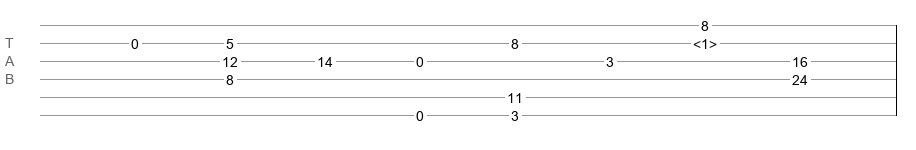0: (131, 36, 139, 46), (416, 54, 424, 64), (416, 108, 424, 118)
11: (507, 90, 523, 100)
12: (222, 54, 238, 64)
14: (317, 54, 333, 64)
16: (792, 54, 808, 64)
24: (792, 72, 808, 82)
3: (511, 108, 519, 118), (606, 54, 614, 64)
5: (226, 36, 234, 46)
8: (226, 72, 234, 82), (511, 36, 519, 46), (701, 18, 709, 28)
harmonic: (693, 36, 717, 46)
